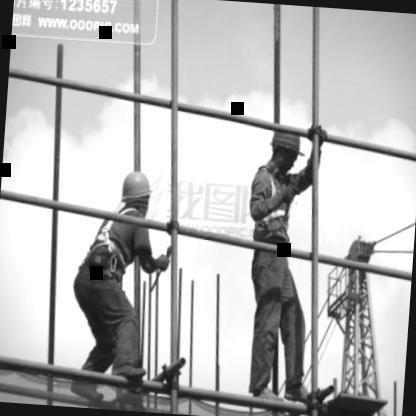helmet: (118, 166, 154, 221), (267, 126, 304, 171)
